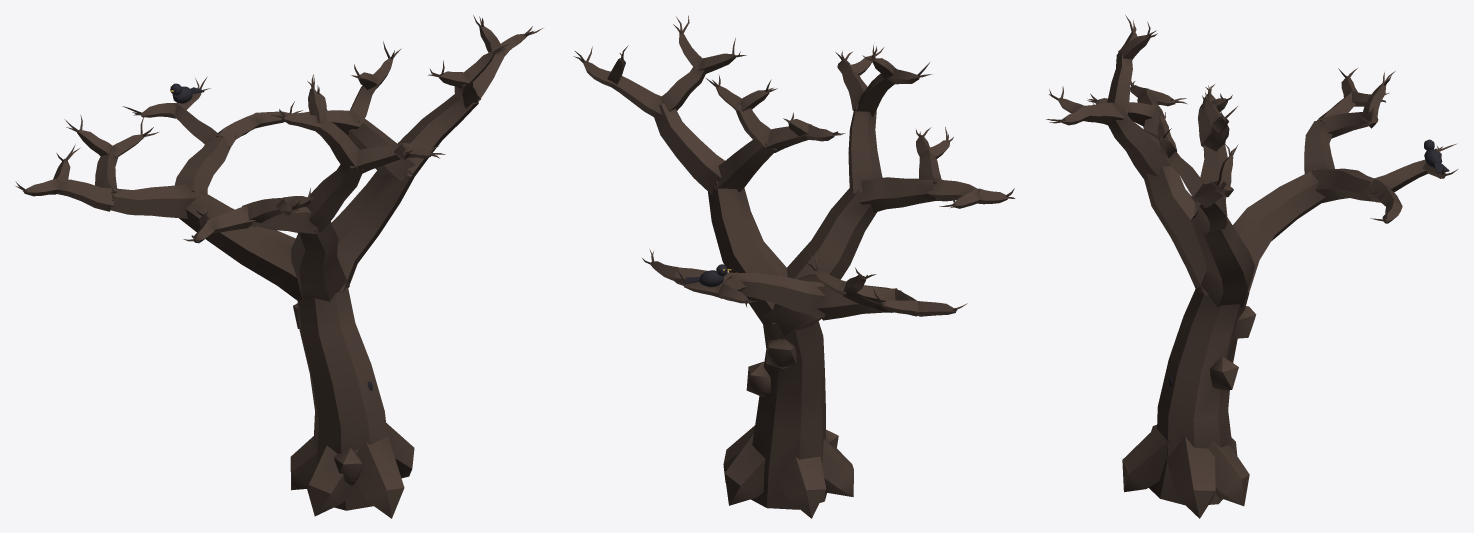
File: tree_gnarled.glb
3 renders of one model, left to right at view 1: azimuth 30°, elevation 25°; view 2: azimuth 150°, elevation 25°; view 3: azimuth 270°, elevation 25°, orthographic. The views are drawn at different scales.
Visible parts, largest first — view 1: tree_gnarled; view 2: tree_gnarled; view 3: tree_gnarled.
Part boxes in pixels (box(x1,y1,x2,y2)): tree_gnarled: box(15, 15, 542, 518); tree_gnarled: box(573, 15, 1015, 518); tree_gnarled: box(1046, 15, 1457, 518).
Bounding box in the file's own units: 4.73 × 4.45 × 3.8.
